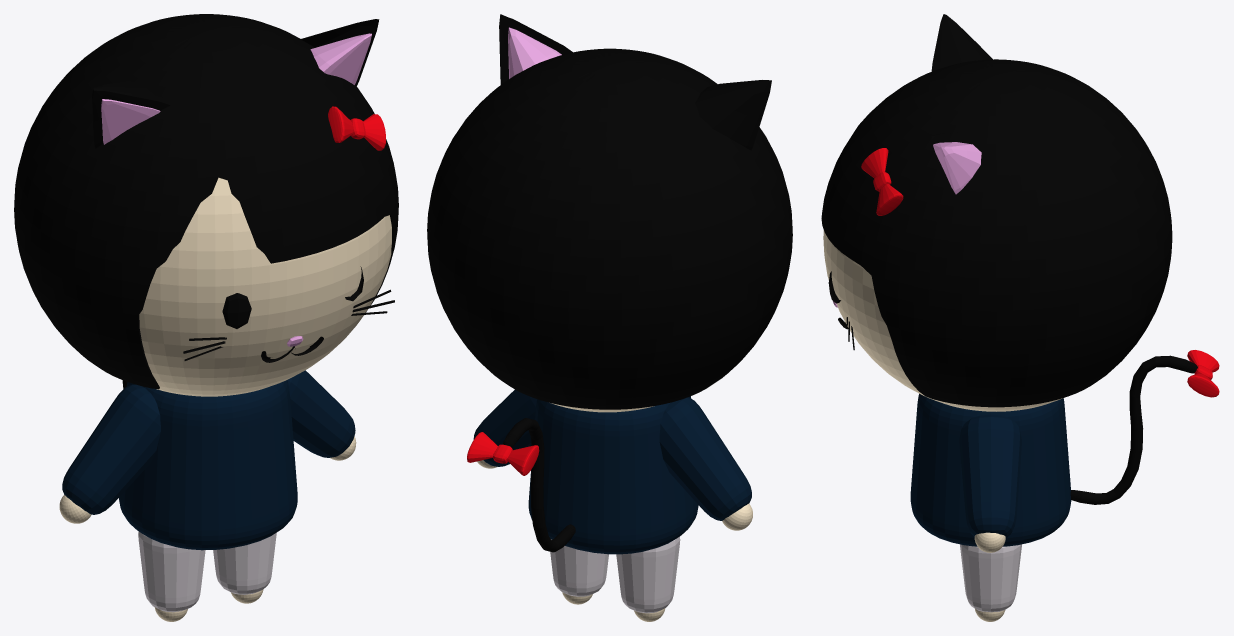
The model's file is 지원몬.glb.
3 views of the same model, side by side, from view 1: azimuth 30°, elevation 25°; view 2: azimuth 150°, elevation 25°; view 3: azimuth 270°, elevation 25° (orthographic). The views are drawn at different scales.
Parts seen in each view (by area): view 1: 빌6/지원몬; view 2: 빌6/지원몬; view 3: 빌6/지원몬.
Boxes of the visible parts, box(x1,y1,x2,y2) form: 빌6/지원몬: box(14, 14, 398, 621); 빌6/지원몬: box(427, 14, 792, 621); 빌6/지원몬: box(821, 14, 1219, 621).
Bounding box in the file's own units: 1.28 × 2.12 × 1.44.
